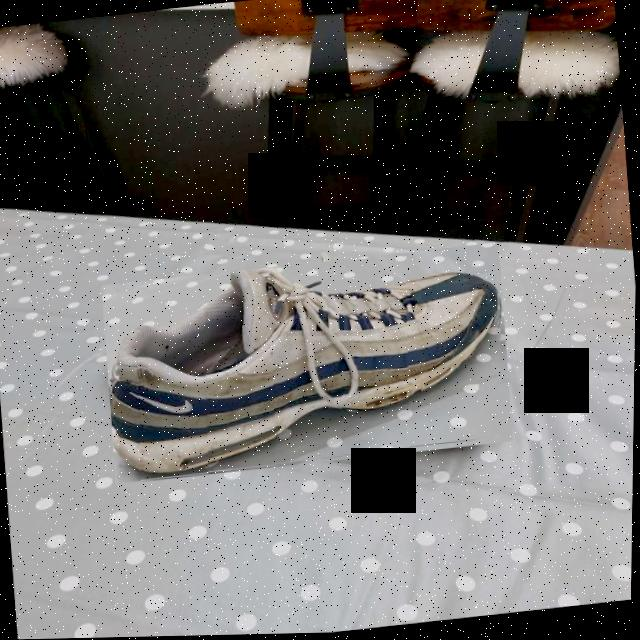shoe: (100, 244, 517, 486)
